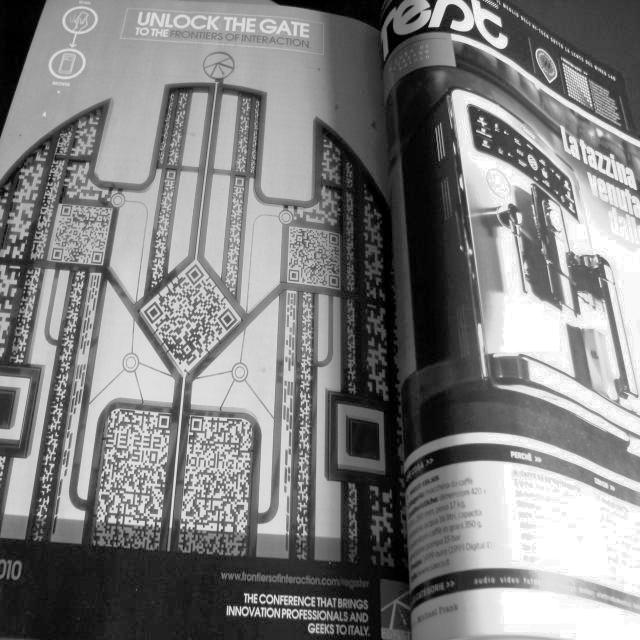qr_code: (144, 264, 237, 367), (51, 205, 111, 264), (288, 228, 339, 288)
